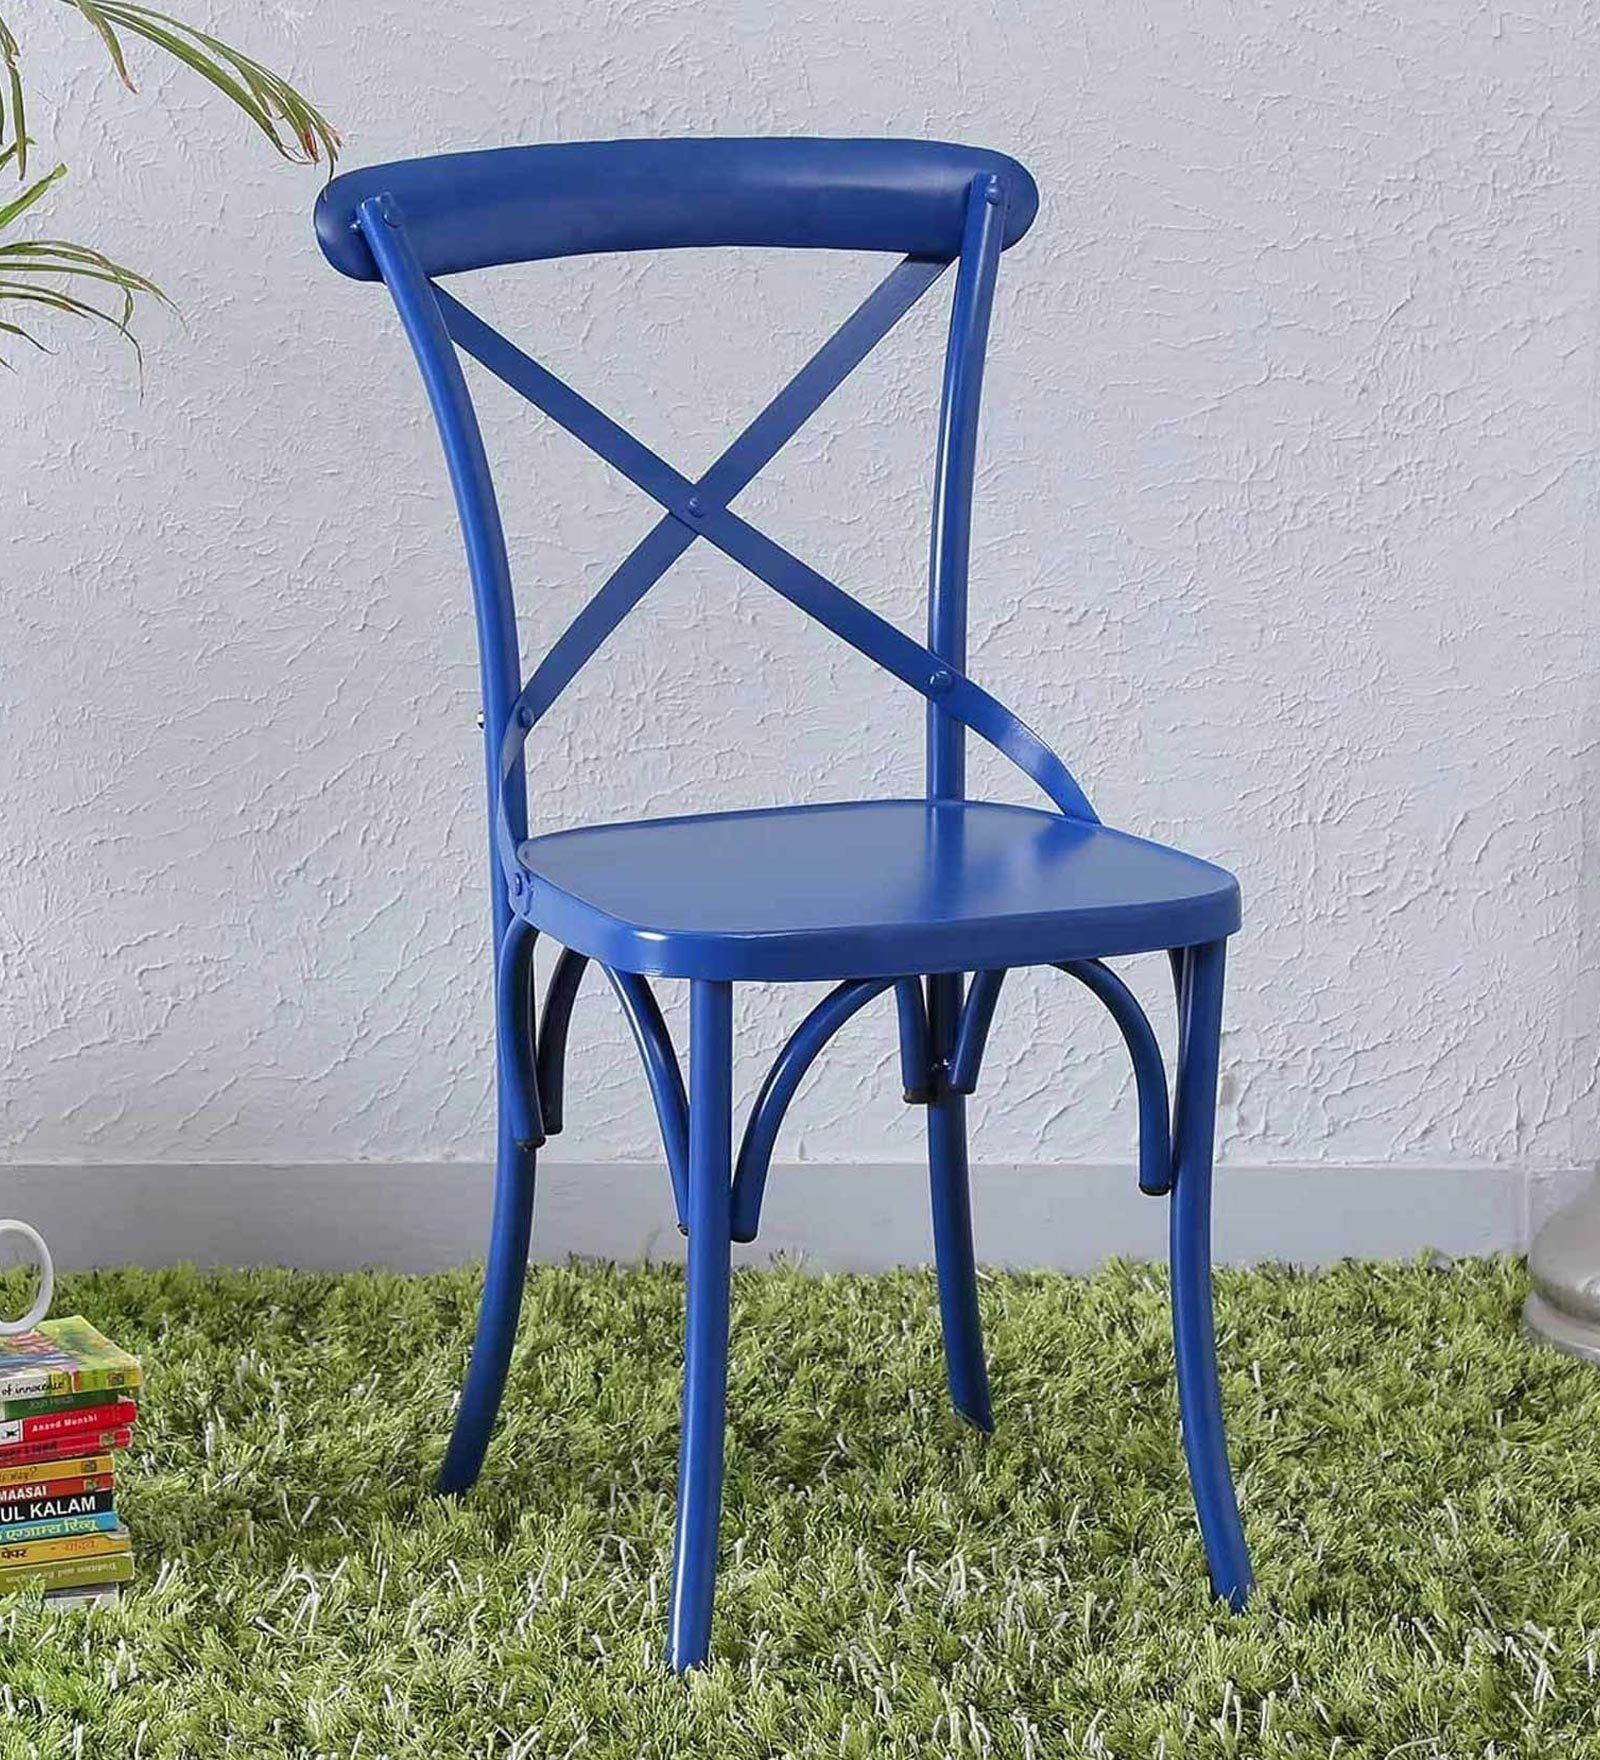Fabian Metal Chair in Blue Color by Bohemiana: (290, 109, 1375, 1688)
